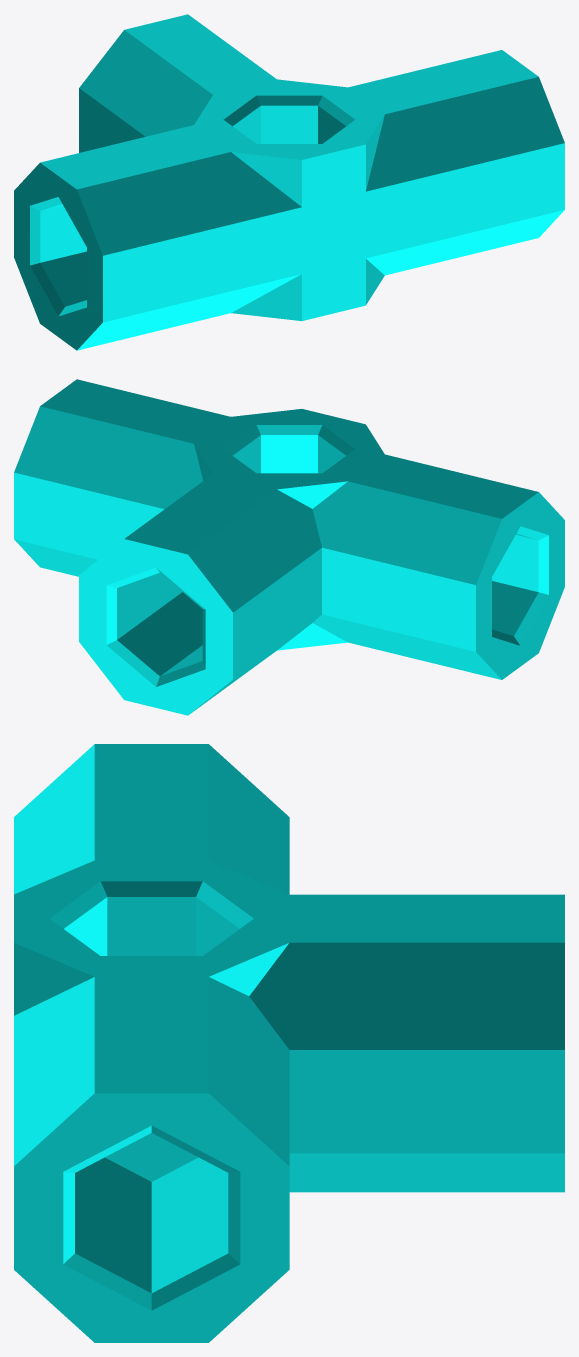
The model's file is 180 Connector 3 Point.glb.
3 views of the same model, one above another, from view 1: azimuth 30°, elevation 25°; view 2: azimuth 150°, elevation 25°; view 3: azimuth 270°, elevation 25° (orthographic). The views are drawn at different scales.
Parts seen in each view (by area): view 1: Node1; view 2: Node1; view 3: Node1.
Part boxes in pixels (bbox=[...]): Node1: bbox=[14, 14, 564, 350]; Node1: bbox=[14, 379, 564, 715]; Node1: bbox=[14, 744, 564, 1342].
Size of the model in its own units: 21 by 7 by 14.
